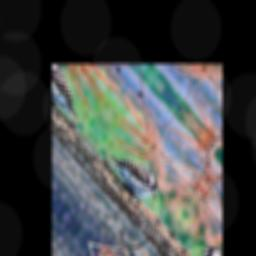Woodpecker: (94, 127, 169, 224)
